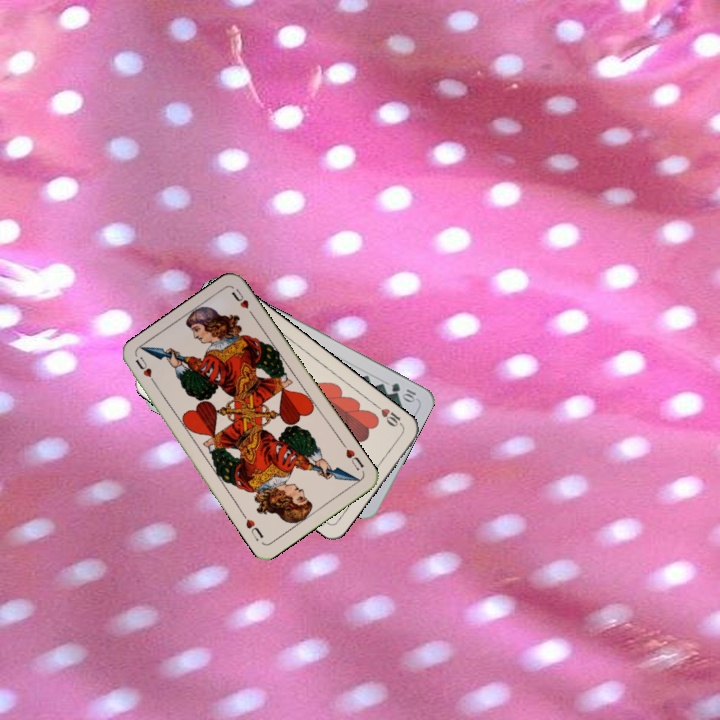G10: (387, 379, 419, 404)
H10: (371, 401, 406, 430)
HU: (131, 352, 160, 390), (338, 440, 366, 473)
